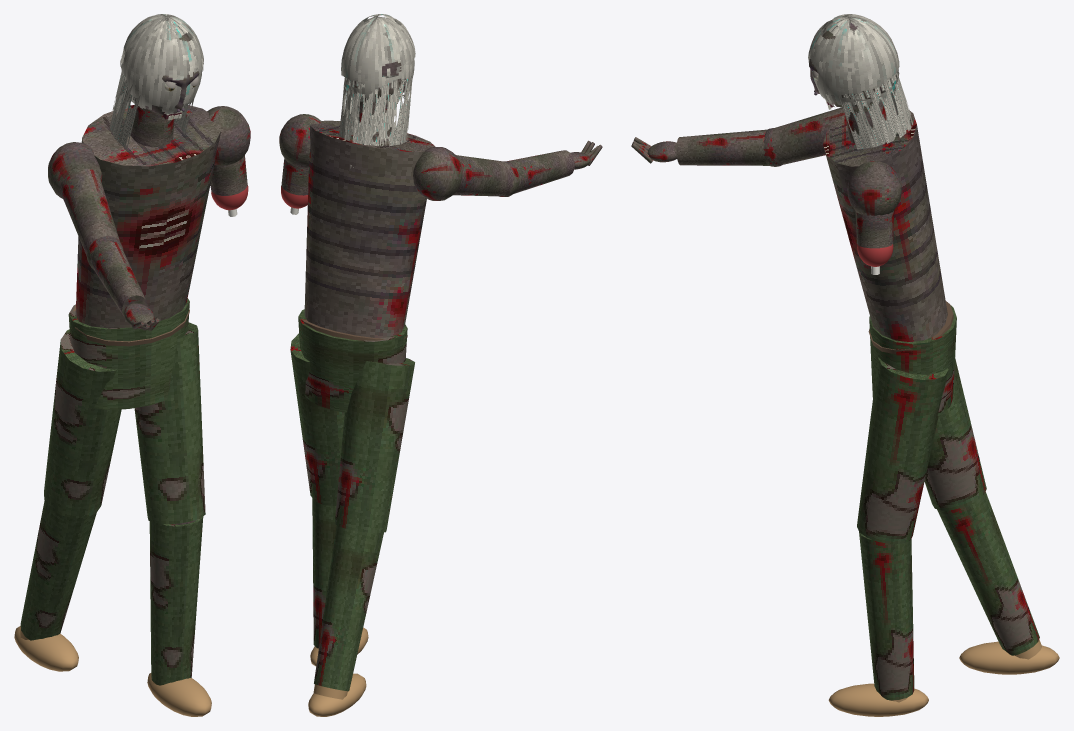
The model's file is Zombie_094.glb.
3 renders of one model, left to right at view 1: azimuth 30°, elevation 25°; view 2: azimuth 150°, elevation 25°; view 3: azimuth 270°, elevation 25°, orthographic. The views are drawn at different scales.
Parts seen in each view (by area): view 1: Zombie_094, object 35, object 36, object 3, object 46, object 9, object 4, object 45; view 2: Zombie_094, object 36, object 3, object 35, object 44, object 43, object 42, object 45, object 41; view 3: Zombie_094, object 36, object 3, object 35, object 37, object 38, object 39.
Boxes of the visible parts, x1,y1,x2,y2 form: Zombie_094: (14, 105, 250, 716); object 35: (123, 14, 203, 80); object 36: (120, 15, 202, 113); object 3: (90, 241, 147, 316); object 46: (114, 86, 140, 148); object 9: (145, 33, 199, 117); object 4: (124, 303, 154, 328); object 45: (109, 77, 132, 139); Zombie_094: (279, 101, 514, 716); object 36: (341, 19, 414, 105); object 3: (507, 150, 574, 193); object 35: (349, 14, 415, 74); object 44: (379, 75, 397, 145); object 43: (364, 75, 388, 145); object 42: (350, 82, 373, 168); object 45: (389, 76, 411, 146); object 41: (344, 79, 361, 141); Zombie_094: (771, 102, 1059, 716); object 36: (812, 16, 899, 106); object 3: (676, 129, 769, 165); object 35: (808, 14, 874, 79); object 37: (839, 93, 876, 149); object 38: (853, 89, 892, 147); object 39: (871, 81, 902, 143).
Size of the model in its own units: 0.6419 by 1.89 by 1.07.
Materials: 18 (6 with a texture image).
